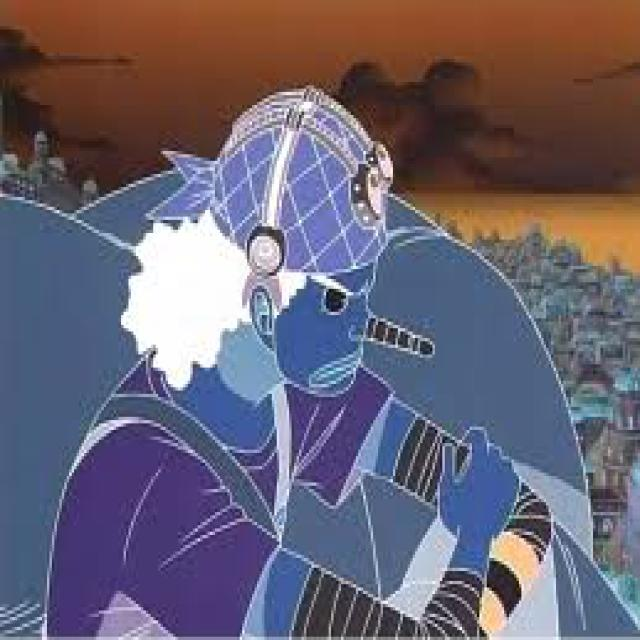Usopp: (44, 89, 640, 640)
